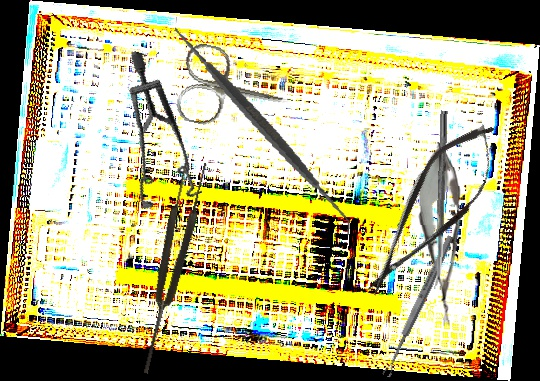Iris Scissors: (173, 40, 298, 142)
Micro Scissor: (345, 108, 518, 312), (414, 140, 470, 328)
Spatula Surgical: (149, 16, 376, 236)
Speculum: (81, 49, 240, 226)
Surgical Spoon: (380, 234, 456, 378), (433, 110, 448, 290)
Tissue Forceps: (131, 157, 210, 377)
